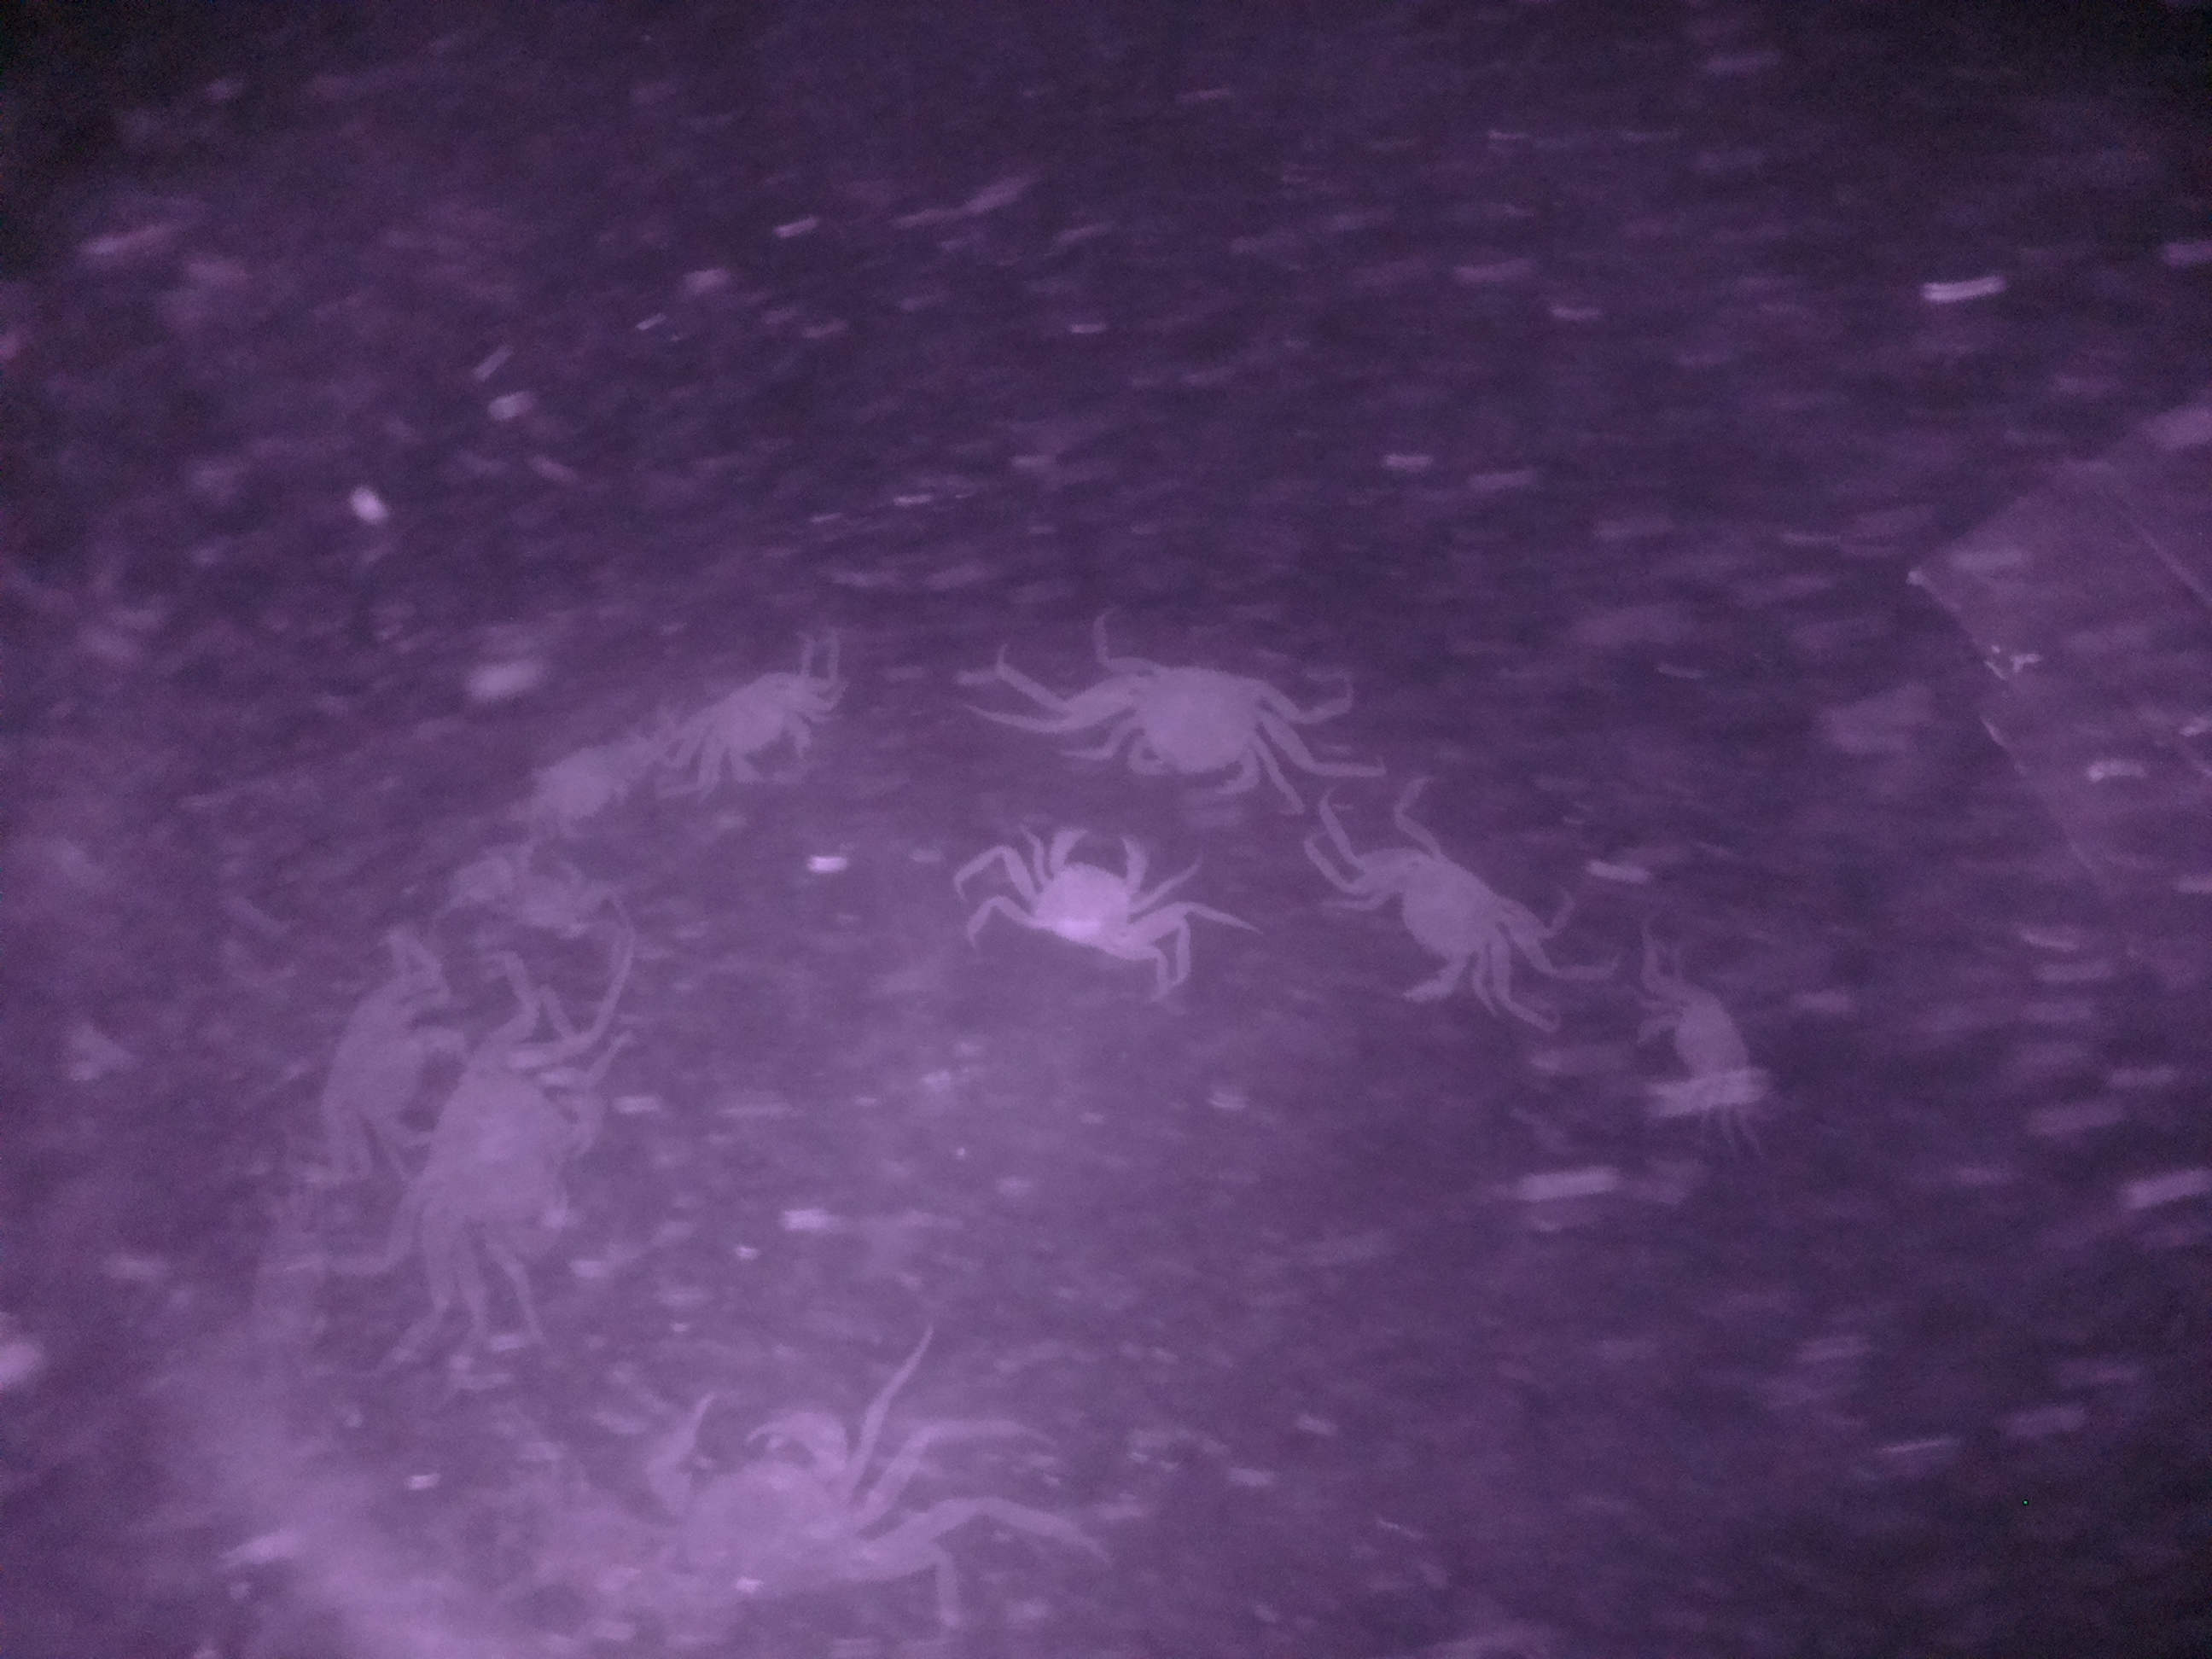Crab: (1308, 814, 1552, 1006), (1075, 629, 1308, 810), (981, 798, 1200, 972), (646, 652, 876, 805)
